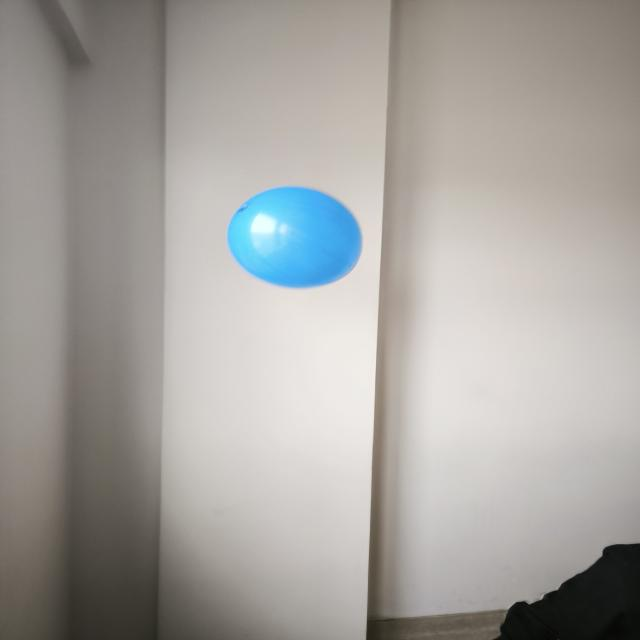balloon: (227, 187, 361, 288)
